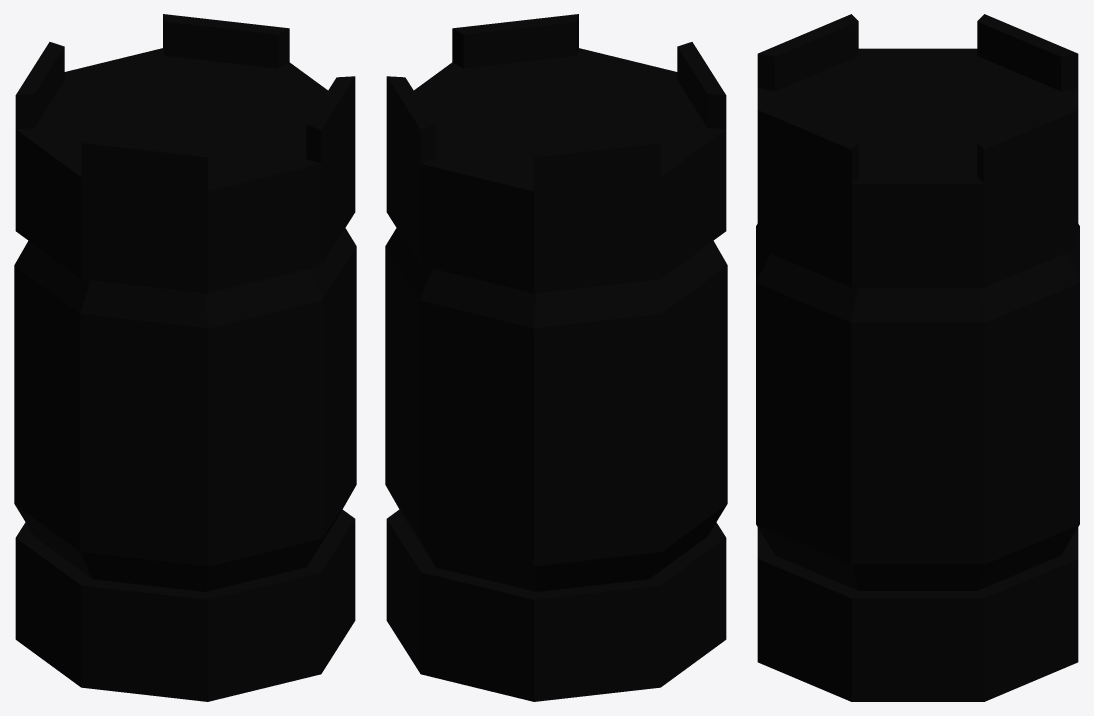
File: energy_cell.gltf
3 views of the same model, side by side, from view 1: azimuth 30°, elevation 25°; view 2: azimuth 150°, elevation 25°; view 3: azimuth 270°, elevation 25° (orthographic).
Parts seen in each view (by area): view 1: energy_cell; view 2: energy_cell; view 3: energy_cell.
Boxes of the visible parts, x1,y1,x2,y2 form: energy_cell: (14,14,356,701); energy_cell: (385,14,727,701); energy_cell: (756,14,1079,701).
Size of the model in its own units: 0.1063 by 0.2 by 0.1063.
Materials: 1 (1 with a texture image).
